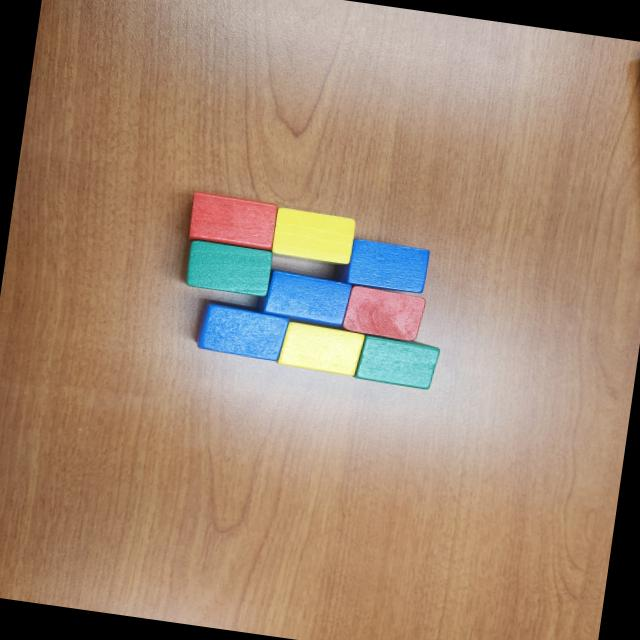blue: (193, 299, 293, 363), (252, 268, 352, 330), (346, 238, 432, 296)
green: (184, 240, 276, 299), (357, 334, 442, 391)
red: (186, 190, 280, 252), (342, 284, 426, 343)
yellow: (270, 208, 356, 266), (278, 322, 364, 378)
